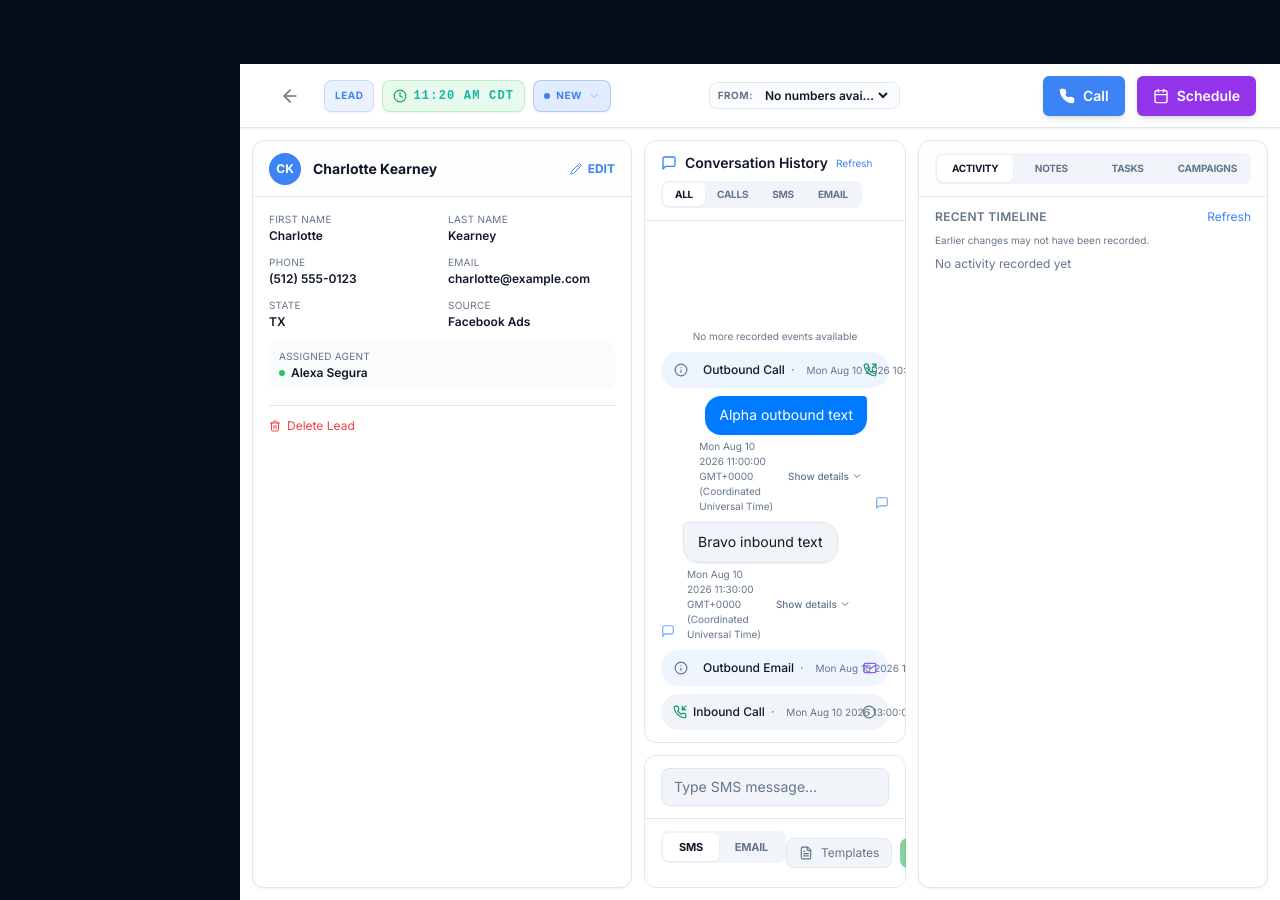
Scenario: A. filters use canonical identifiers › SMS shows only SMS
Expected: the text "Alpha outbound text" is shown, [719,404,853,427]
What coordinates should you click on to do the following:
click the button "SMS"
I would click on:
 (783, 194)
Its box is [760,183,806,206].
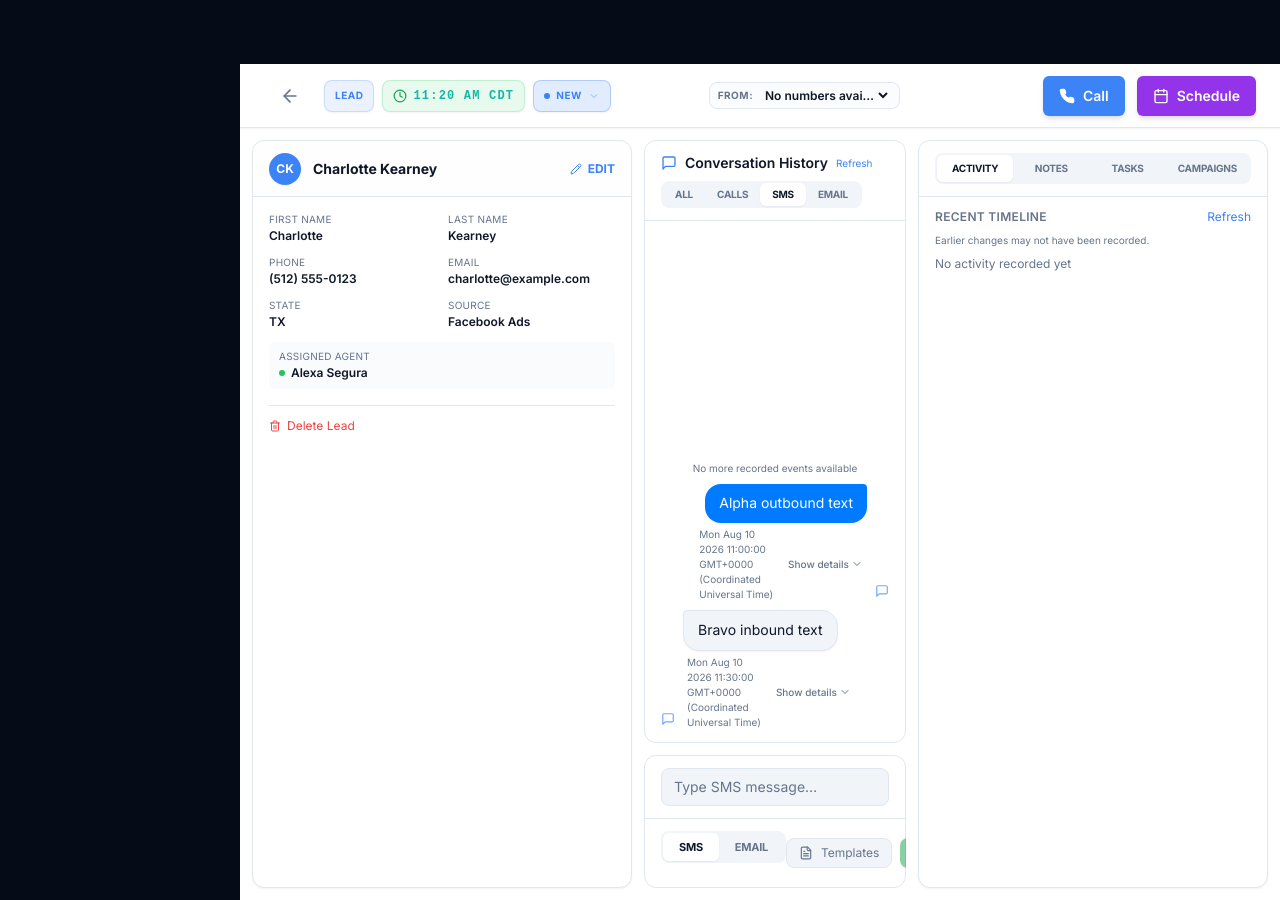
Expected: the text "Alpha outbound text" is shown, [719,492,853,515]
Now the text "Outbound Call" is gone
Now the text "Outbound Email" is gone
